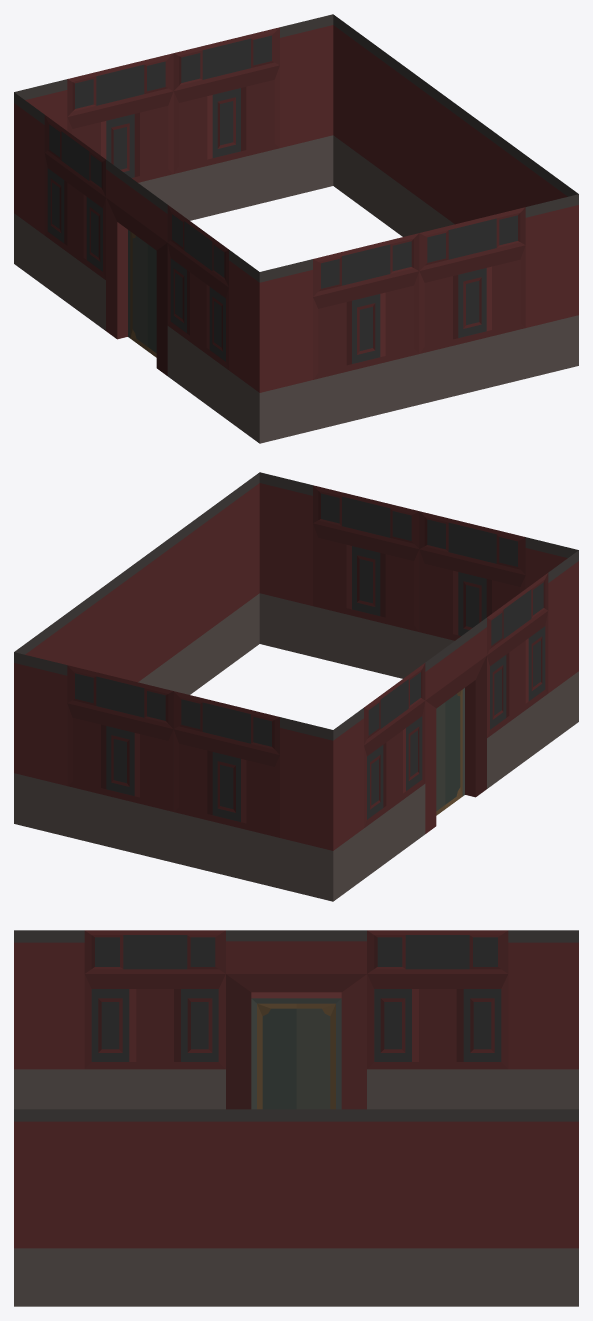
The model's file is BuildingA-Sm_BLOD1.fbx.
The picture shows the model from 3 angles, top to bottom: view 1: azimuth 30°, elevation 25°; view 2: azimuth 150°, elevation 25°; view 3: azimuth 270°, elevation 25°; orthographic projection. The views are drawn at different scales.
Visible parts, largest first — view 1: BuildingA-Sm_BLOD1; view 2: BuildingA-Sm_BLOD1; view 3: BuildingA-Sm_BLOD1.
Part boxes in pixels (left/top/right/bottom): BuildingA-Sm_BLOD1: left=14, top=14, right=578, bottom=443; BuildingA-Sm_BLOD1: left=14, top=472, right=578, bottom=901; BuildingA-Sm_BLOD1: left=14, top=930, right=578, bottom=1306.
Bounding box in the file's own units: 750 × 386 × 1000.
